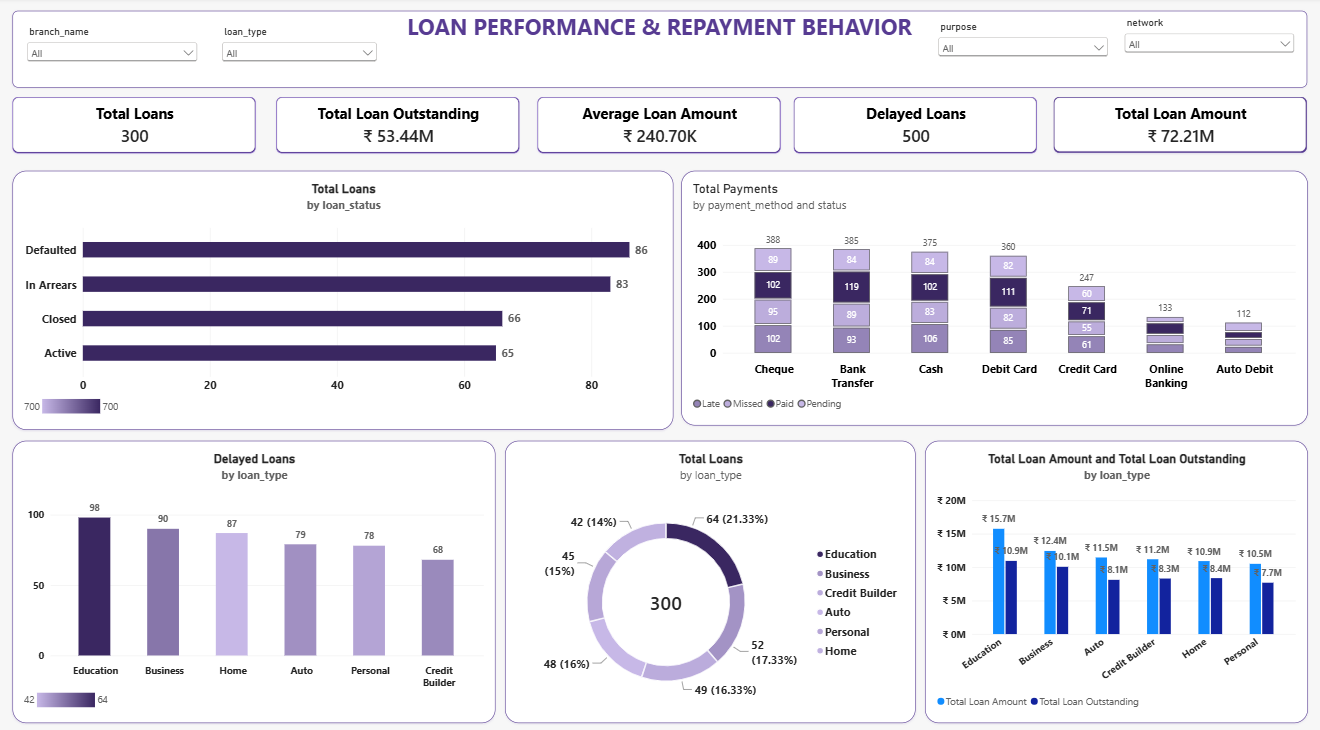

This screenshot's page, from the dashboard's own definition file:
{"tool":"powerbi","page":{"name":"Loan performance & Repayment behavior","canvas":[1920,1080],"ordinal":6},"visuals":[{"type":"textbox","box":[26.2,20.2,1874.1,110.8],"z":0},{"type":"cardVisual","fields":{"Data":["Table.Total Loan Outstanding"]},"box":[407.1,145.1,352,81.4],"z":1000},{"type":"cardVisual","fields":{"Data":["Table.Total Loan Amount"]},"box":[1533.5,145.1,366.8,80.6],"z":2000},{"type":"cardVisual","fields":{"Data":["Table.Total Loans"]},"box":[26.2,145.1,352,81.4],"z":3000},{"type":"cardVisual","fields":{"Data":["loans.Average Loan Amount"]},"box":[785.9,145.1,352,81.4],"z":4000},{"type":"cardVisual","fields":{"Data":["Table.Delayed Loans"]},"box":[1156.7,145.1,352,81.4],"z":5000},{"type":"slicer","fields":{"Values":["cards.network"]},"box":[1630.2,28.2,255.2,76],"z":6000},{"type":"slicer","fields":{"Values":["loans.loan_type"]},"box":[324.4,42.3,233.4,63.3],"z":7000},{"type":"slicer","fields":{"Values":["branches.branch_name"]},"box":[42.3,42.3,255.9,68.5],"z":8000},{"type":"slicer","fields":{"Values":["loans.purpose"]},"box":[1360.2,34.3,255.2,76],"z":9000},{"type":"donutChart","fields":{"Category":["loans.loan_type"],"Y":["Table.Total Loans"]},"box":[737.5,642.8,594.5,409.1],"z":10000},{"type":"clusteredColumnChart","fields":{"Category":["loans.loan_type"],"Y":["Table.Total Loan Amount","Table.Total Loan Outstanding"]},"box":[1346.1,642.8,554.2,409.1],"z":11000},{"type":"clusteredBarChart","fields":{"Category":["loans.loan_status"],"Y":["Table.Total Loans"]},"box":[26.2,251.9,957.2,374.8],"z":12000},{"type":"clusteredColumnChart","fields":{"Category":["loans.loan_type"],"Y":["Table.Delayed Loans"]},"box":[26.2,642.8,699.2,409.1],"z":13000},{"type":"columnChart","fields":{"Category":["loan_payments.payment_method"],"Series":["loan_payments.status"],"Y":["loan_payments.Total Payments"]},"box":[993.5,251.9,906.8,368.8],"z":14000}]}

Visuals, with their boxes in screenshot pixels (x1, y1, x2, y2), scaled from the page's 1920x1080 canvas onto the 1320x730 screenshot:
textbox: Rect(18, 14, 1306, 89)
cardVisual - Table.Total Loan Outstanding: Rect(280, 98, 522, 153)
cardVisual - Table.Total Loan Amount: Rect(1054, 98, 1306, 153)
cardVisual - Table.Total Loans: Rect(18, 98, 260, 153)
cardVisual - loans.Average Loan Amount: Rect(540, 98, 782, 153)
cardVisual - Table.Delayed Loans: Rect(795, 98, 1037, 153)
slicer - cards.network: Rect(1121, 19, 1296, 70)
slicer - loans.loan_type: Rect(223, 29, 383, 71)
slicer - branches.branch_name: Rect(29, 29, 205, 75)
slicer - loans.purpose: Rect(935, 23, 1111, 75)
donutChart - loans.loan_type x Table.Total Loans: Rect(507, 434, 916, 711)
clusteredColumnChart - loans.loan_type x Table.Total Loan Amount: Rect(925, 434, 1306, 711)
clusteredBarChart - loans.loan_status x Table.Total Loans: Rect(18, 170, 676, 424)
clusteredColumnChart - loans.loan_type x Table.Delayed Loans: Rect(18, 434, 499, 711)
columnChart - loan_payments.payment_method x loan_payments.status: Rect(683, 170, 1306, 420)
